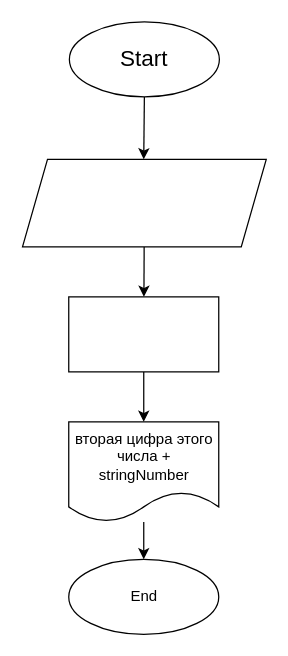
This 288x656 diagram has some shape labels left out. The box of each missing label's shape, as (x1, y1, x2, y2) in pixels:
threeDigitNumber stringNumber: (68, 296, 219, 372)
введи трёхзначное число: (21, 158, 266, 247)
